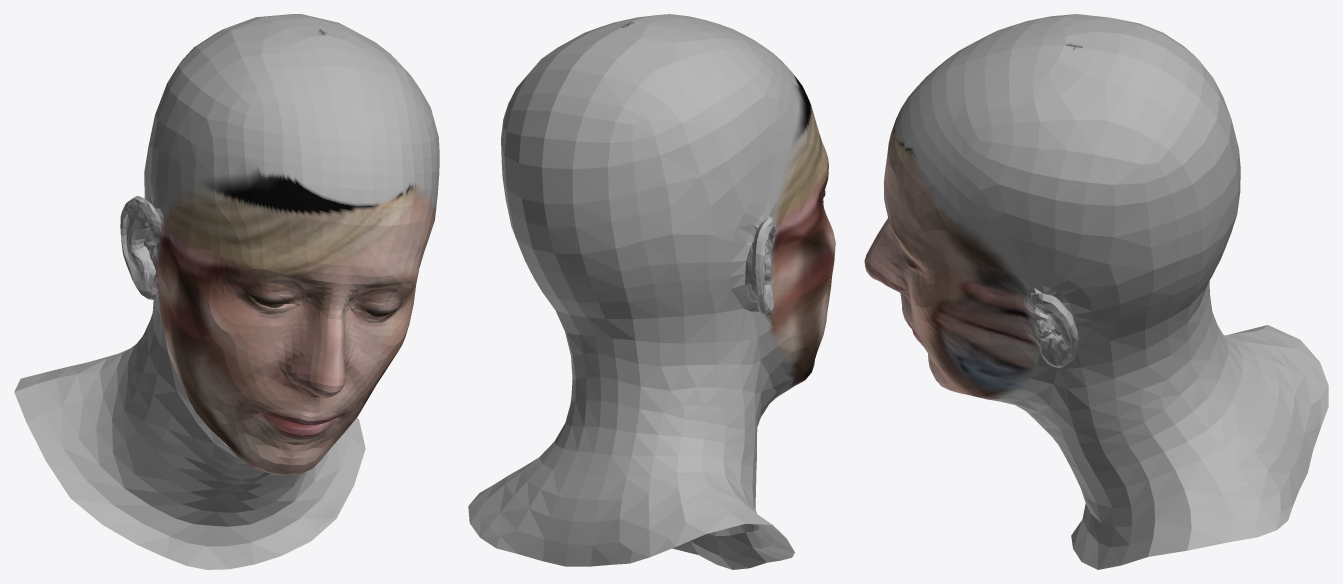
The model's file is alfw1.obj.
3 renders of one model, left to right at view 1: azimuth 30°, elevation 25°; view 2: azimuth 150°, elevation 25°; view 3: azimuth 270°, elevation 25°, orthographic.
Size of the model in its own units: 0.2081 by 0.3198 by 0.2548.
1 material, 1 textured.
